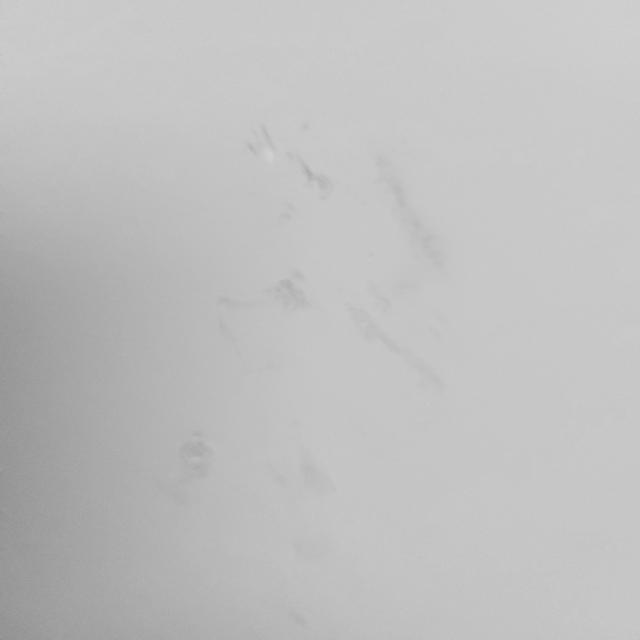stain marks: (158, 87, 480, 514)
